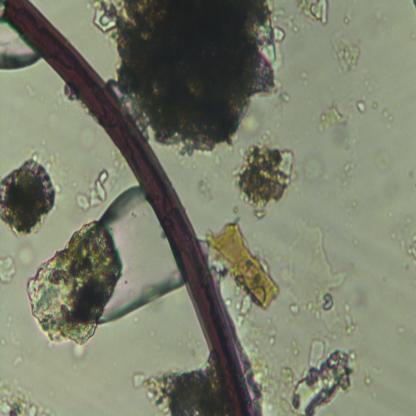Air bubble: (94, 184, 182, 320), (0, 19, 36, 76)
Background material: (92, 0, 287, 154), (24, 217, 119, 345), (282, 209, 346, 331), (206, 219, 280, 310), (128, 356, 230, 416), (0, 146, 63, 238), (290, 339, 354, 415), (230, 143, 297, 215), (0, 375, 52, 415), (235, 298, 265, 365), (257, 361, 292, 414), (74, 167, 110, 212), (329, 28, 361, 75), (320, 100, 352, 144), (197, 152, 224, 202), (48, 85, 72, 128), (397, 213, 416, 259), (299, 153, 327, 184), (298, 0, 330, 27), (340, 299, 358, 337), (0, 250, 17, 284), (69, 340, 88, 368), (9, 330, 23, 367), (78, 127, 98, 152), (341, 159, 357, 188), (265, 314, 278, 348), (18, 246, 38, 266), (376, 150, 392, 174), (380, 106, 394, 132), (25, 80, 40, 101), (362, 371, 374, 394), (353, 97, 368, 114), (342, 7, 354, 25), (276, 88, 291, 102), (349, 196, 361, 211), (6, 310, 12, 331), (395, 323, 405, 335), (0, 335, 7, 348)
Microfibre: (2, 0, 261, 414)
